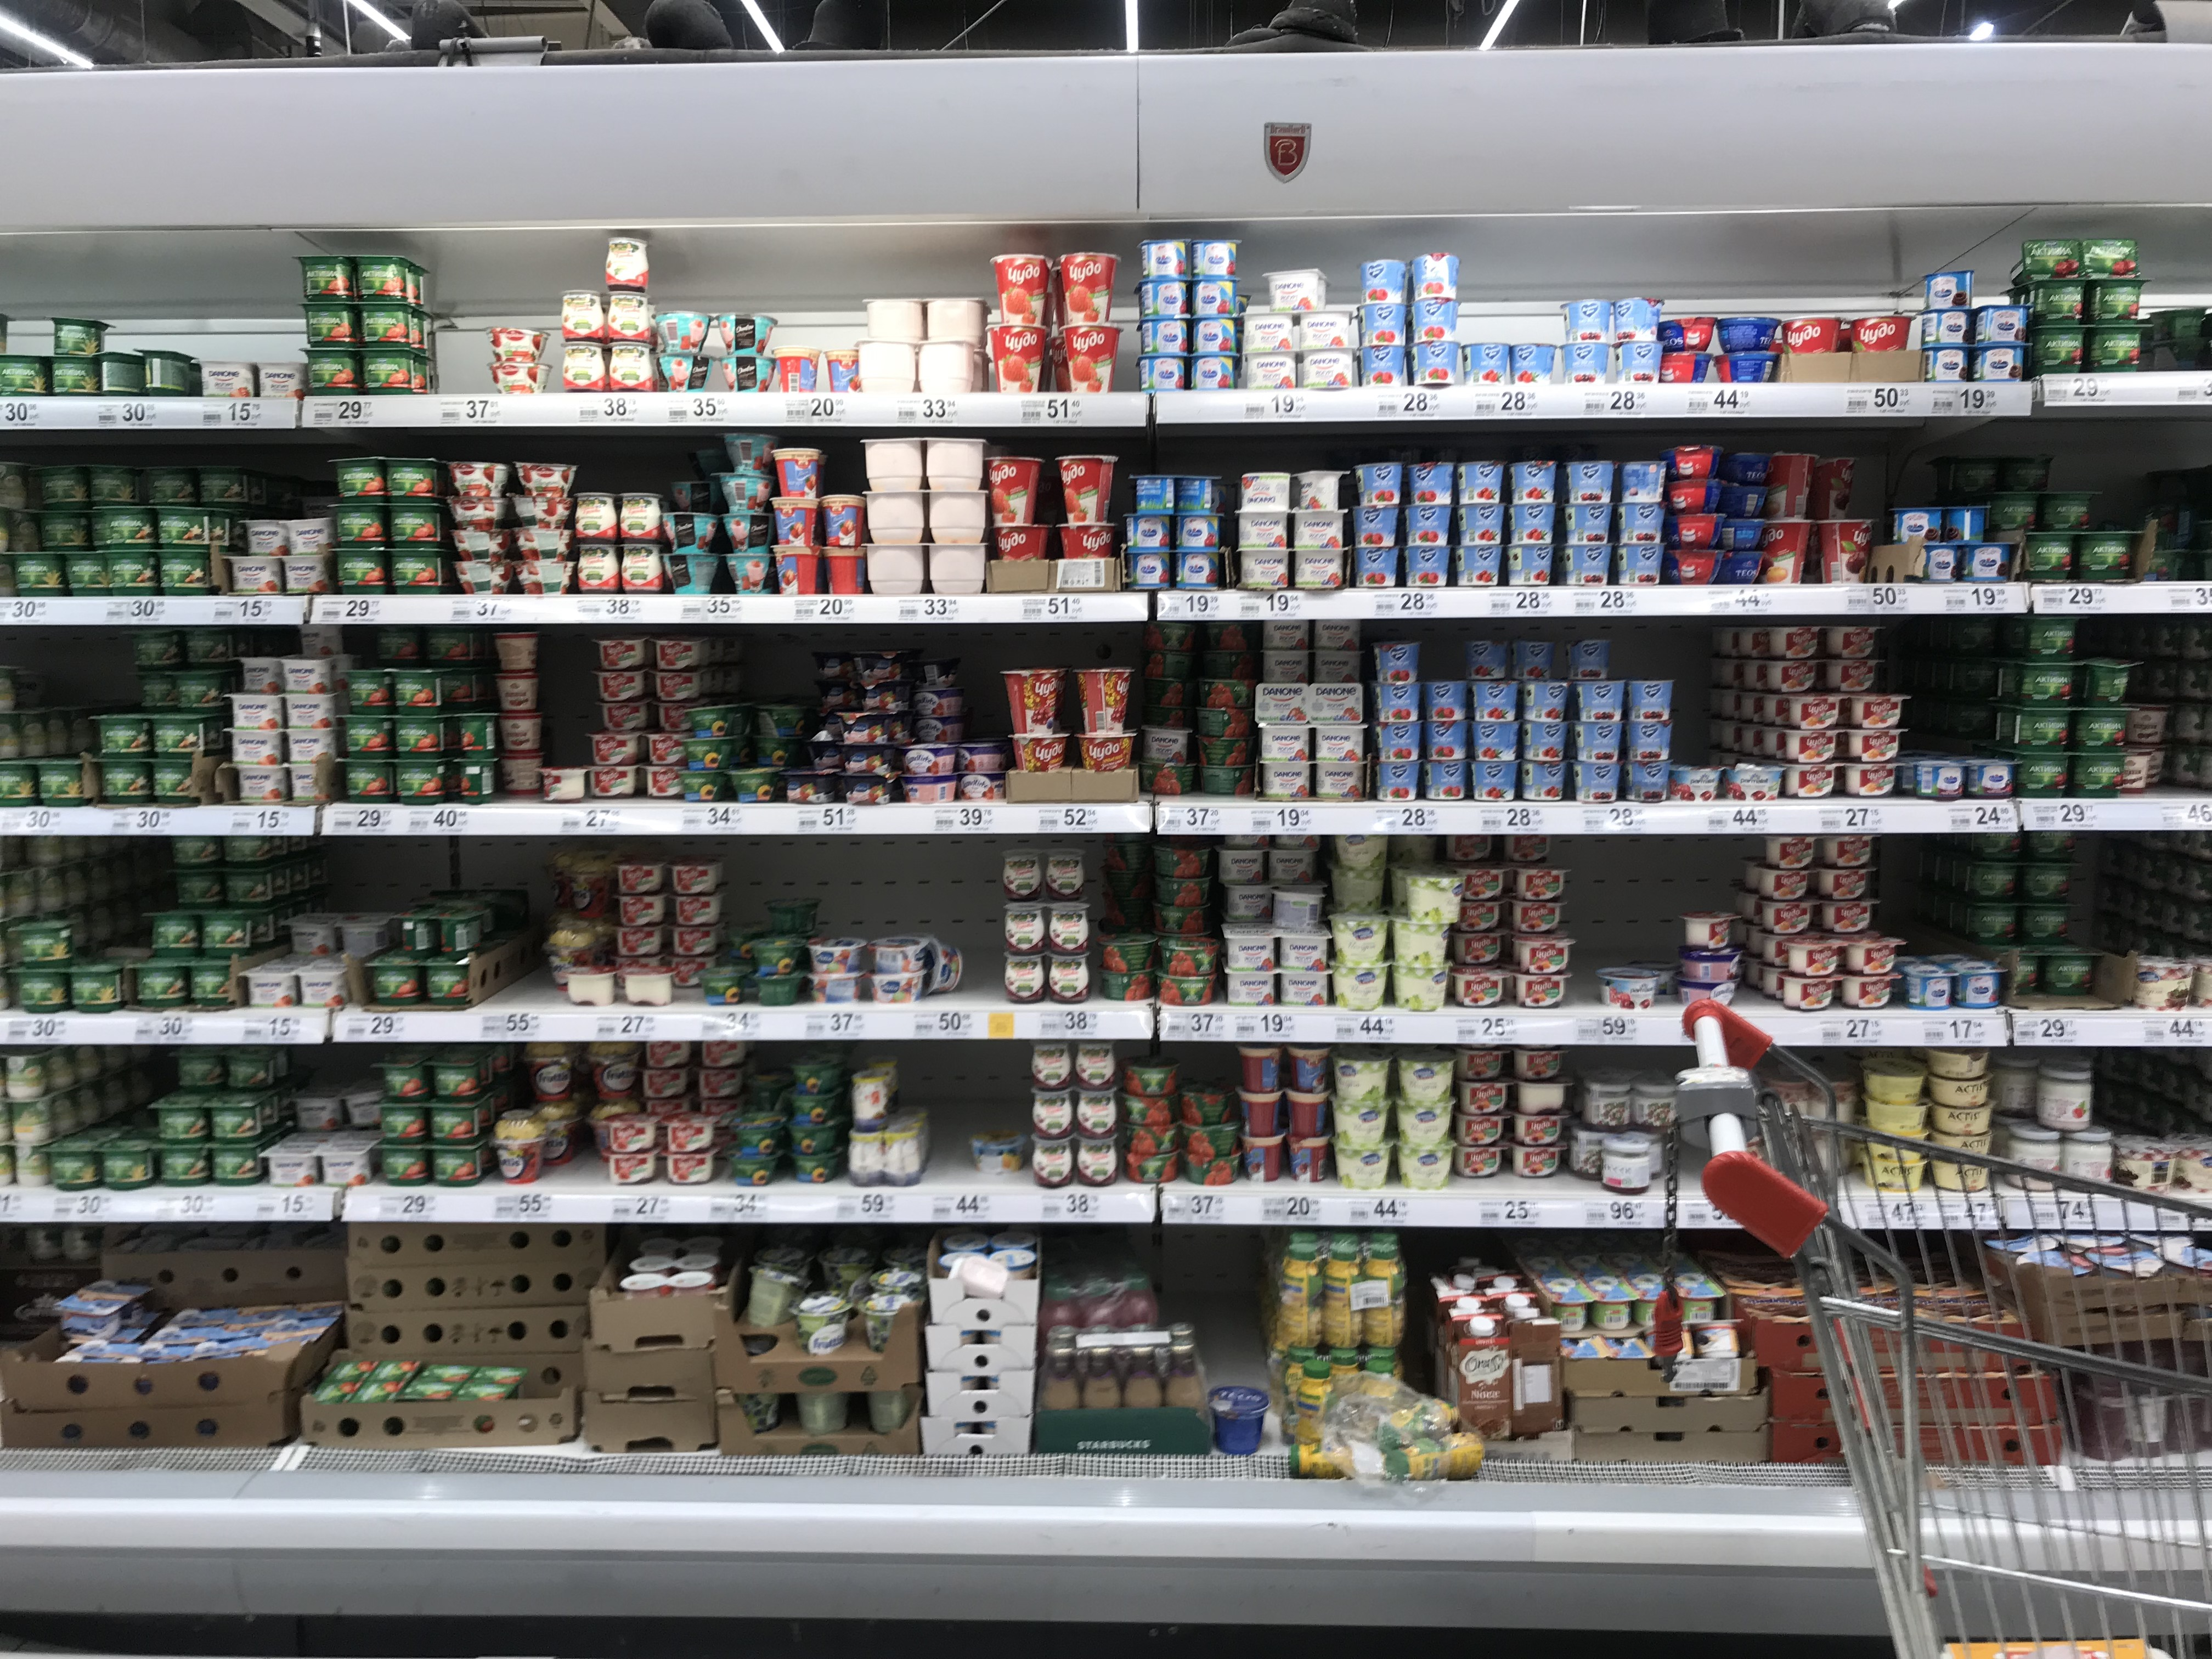yogbox: (1209, 1371, 1273, 1455), (1001, 666, 1068, 734), (984, 328, 1049, 397), (1061, 324, 1120, 394), (993, 254, 1049, 328), (1076, 666, 1130, 737), (1817, 519, 1874, 586), (2130, 953, 2193, 1011), (2114, 1134, 2172, 1195), (986, 458, 1038, 525), (792, 1297, 852, 1354), (742, 1267, 799, 1326), (1059, 458, 1115, 519), (860, 439, 923, 491), (914, 343, 977, 396), (1763, 516, 1810, 586), (1061, 258, 1109, 324), (1395, 917, 1454, 971), (2038, 1066, 2092, 1126), (927, 439, 988, 491), (925, 493, 986, 545), (862, 493, 925, 544), (923, 296, 988, 345), (1331, 913, 1388, 967), (1393, 1141, 1454, 1192), (51, 1297, 120, 1340), (1763, 453, 1810, 518), (860, 343, 918, 396), (1327, 1094, 1388, 1143), (1007, 732, 1071, 777), (1581, 1270, 1635, 1324), (1594, 1140, 1646, 1195), (1339, 1051, 1395, 1103), (2064, 1127, 2114, 1185), (495, 1114, 538, 1180), (1395, 1054, 1456, 1101), (862, 296, 925, 342), (589, 1042, 636, 1101), (1811, 457, 1855, 519), (1332, 1138, 1386, 1188), (948, 1262, 1015, 1302), (1397, 1101, 1453, 1150), (970, 1129, 1028, 1176), (867, 547, 925, 594), (927, 545, 984, 592), (1848, 317, 1912, 359), (1393, 971, 1453, 1016), (1595, 964, 1655, 1009), (1404, 873, 1458, 922), (995, 523, 1052, 568), (770, 347, 820, 397), (860, 1293, 909, 1345), (1456, 633, 1508, 681), (1336, 833, 1388, 882), (2006, 1131, 2055, 1183), (1784, 310, 1838, 357), (1895, 504, 1949, 551), (1331, 965, 1388, 1009), (1719, 312, 1778, 354), (1451, 542, 1503, 589), (1059, 523, 1113, 568), (1543, 1274, 1588, 1328), (514, 460, 575, 500), (1864, 1091, 1925, 1131), (1045, 899, 1089, 955), (573, 491, 622, 540), (1561, 295, 1611, 342), (1862, 1061, 1921, 1101), (477, 326, 545, 361), (575, 540, 620, 592), (446, 497, 510, 533), (1660, 547, 1724, 584), (1367, 641, 1421, 685), (900, 742, 961, 781), (1972, 303, 2029, 343), (772, 498, 820, 545), (770, 547, 817, 596), (557, 289, 603, 340), (1049, 955, 1092, 1007), (1561, 342, 1613, 385), (1287, 1133, 1329, 1187), (1656, 444, 1721, 479), (1785, 941, 1850, 976), (1658, 312, 1719, 349), (603, 239, 648, 288), (1508, 340, 1557, 385), (1507, 544, 1555, 589), (1031, 1140, 1075, 1190), (547, 931, 590, 981), (618, 490, 662, 540), (1458, 457, 1501, 507), (1374, 762, 1425, 805), (1075, 1042, 1116, 1094), (1719, 765, 1782, 800), (449, 458, 509, 495), (1510, 1108, 1569, 1145), (535, 765, 589, 805), (853, 1075, 892, 1131), (624, 965, 679, 1004), (1911, 763, 1966, 802), (1508, 1143, 1564, 1182), (1841, 939, 1905, 972), (998, 852, 1045, 897), (1611, 296, 1658, 342), (1240, 1091, 1287, 1136), (775, 450, 819, 498), (1191, 237, 1240, 281), (1456, 505, 1505, 549), (1923, 267, 1973, 308), (1514, 462, 1564, 504), (1695, 1319, 1745, 1361), (881, 1134, 921, 1187), (1569, 725, 1622, 765), (1514, 969, 1566, 1009), (1932, 1075, 1994, 1108), (514, 561, 573, 596), (1566, 636, 1611, 681), (822, 549, 866, 596), (1580, 1084, 1627, 1127), (1629, 1082, 1676, 1126), (531, 1047, 568, 1103), (782, 769, 838, 805), (1404, 509, 1453, 551), (1965, 760, 2013, 802), (1952, 964, 2001, 1006), (610, 1112, 660, 1152), (1076, 1140, 1116, 1190), (1005, 950, 1045, 1000), (1080, 739, 1130, 779), (820, 497, 860, 547), (1683, 948, 1747, 979), (566, 969, 618, 1007), (808, 938, 866, 972), (453, 559, 510, 594), (1127, 516, 1181, 552), (1684, 910, 1738, 946), (3, 1054, 47, 1100), (1615, 338, 1660, 382), (1942, 498, 1987, 542), (1928, 345, 1975, 387), (1679, 978, 1742, 1009), (1905, 971, 1952, 1012), (1667, 481, 1726, 514), (1402, 547, 1451, 587), (1521, 683, 1569, 723), (1242, 1042, 1282, 1091), (1287, 1089, 1327, 1138), (650, 671, 705, 706), (1757, 899, 1813, 934), (590, 767, 641, 805), (1350, 509, 1400, 547), (1569, 765, 1620, 803), (834, 709, 895, 741), (1137, 240, 1190, 277), (1925, 312, 1977, 349), (1932, 1047, 1989, 1080), (1411, 462, 1454, 505), (667, 1108, 712, 1150), (1049, 850, 1090, 896), (1463, 343, 1508, 385), (1916, 542, 1961, 584), (1355, 464, 1400, 505), (1566, 544, 1611, 586), (1512, 638, 1554, 683), (1474, 762, 1519, 803), (608, 1147, 655, 1187), (1965, 542, 2012, 582), (1566, 460, 1613, 500), (1508, 504, 1555, 544), (1620, 542, 1660, 589), (838, 739, 892, 774), (838, 772, 892, 807), (1721, 349, 1775, 383), (1031, 1042, 1069, 1091), (617, 861, 665, 899), (867, 939, 930, 969), (514, 497, 573, 528), (514, 532, 573, 563), (927, 941, 963, 992), (1785, 765, 1836, 802), (1818, 903, 1874, 936), (852, 678, 904, 713), (502, 755, 543, 798), (1360, 261, 1404, 303), (1413, 343, 1454, 387), (1844, 765, 1897, 800), (1176, 516, 1221, 556), (1411, 256, 1456, 296), (1360, 303, 1406, 343), (1364, 342, 1404, 387), (1616, 502, 1662, 542), (1350, 547, 1395, 587), (1627, 680, 1672, 720), (1472, 681, 1517, 721), (1242, 1136, 1282, 1182), (1035, 1091, 1073, 1138), (810, 971, 867, 1002), (869, 969, 927, 1000), (909, 688, 967, 720), (493, 673, 540, 711), (1764, 863, 1811, 901), (1853, 697, 1907, 730), (1784, 978, 1838, 1011), (1458, 1114, 1512, 1147), (1005, 901, 1042, 950), (653, 638, 702, 674), (1519, 1079, 1569, 1114), (597, 701, 653, 732), (486, 362, 549, 390), (1174, 552, 1216, 594), (1571, 1127, 1602, 1183), (1378, 683, 1421, 723), (1522, 763, 1566, 803), (1137, 356, 1183, 394), (1287, 1046, 1325, 1091), (1137, 282, 1190, 315), (1827, 627, 1879, 660), (1456, 1080, 1508, 1114), (909, 716, 967, 746), (624, 547, 658, 596), (1129, 476, 1177, 511), (1662, 518, 1723, 545), (1822, 833, 1876, 864), (493, 633, 535, 673), (500, 713, 542, 753), (1413, 305, 1454, 345), (1580, 680, 1622, 720), (1137, 321, 1188, 354), (1670, 765, 1721, 798), (1787, 730, 1838, 763), (1177, 474, 1221, 512), (1378, 725, 1421, 763), (824, 347, 860, 392), (1620, 464, 1665, 500), (899, 774, 954, 803), (1933, 1101, 1989, 1131), (1190, 281, 1242, 312), (1717, 552, 1764, 587), (1768, 659, 1820, 690), (1514, 868, 1566, 899), (1517, 939, 1569, 971), (1188, 321, 1237, 354), (1190, 357, 1238, 390), (1629, 763, 1669, 803), (1522, 723, 1564, 762), (1426, 763, 1468, 802), (1824, 662, 1878, 692), (14, 1143, 51, 1187), (453, 532, 514, 558), (1127, 554, 1170, 591), (1629, 725, 1672, 762), (2134, 699, 2168, 744), (672, 861, 719, 894), (597, 638, 644, 671), (1851, 730, 1898, 763), (852, 1133, 881, 1185), (1761, 835, 1813, 864), (589, 734, 637, 765), (1719, 519, 1768, 551), (1458, 932, 1501, 967), (1724, 451, 1770, 484), (1460, 1051, 1505, 1084), (852, 652, 902, 681), (1771, 626, 1822, 655), (1820, 871, 1871, 901), (956, 741, 1003, 772), (1791, 697, 1838, 728), (1078, 1096, 1116, 1134), (1723, 481, 1764, 516), (1568, 507, 1609, 542), (1844, 978, 1897, 1006), (672, 924, 721, 953), (1663, 354, 1712, 383), (1514, 903, 1562, 932), (12, 1098, 45, 1141), (1980, 349, 2024, 382), (1456, 899, 1501, 931), (1456, 972, 1501, 1004), (1430, 723, 1467, 762), (1477, 723, 1517, 758), (1461, 868, 1501, 903), (597, 673, 644, 702), (618, 925, 662, 957), (1458, 1145, 1501, 1176), (617, 897, 665, 925), (674, 894, 723, 922), (958, 772, 1007, 800), (1430, 685, 1467, 721), (643, 767, 683, 800), (671, 1154, 712, 1185), (1517, 1051, 1564, 1079), (914, 660, 960, 688), (648, 735, 688, 765), (655, 704, 691, 730), (2125, 756, 2149, 791)
yogbox.activ.ky.kivi: (148, 714, 211, 765), (141, 911, 204, 962), (94, 709, 155, 760), (91, 756, 152, 807), (146, 756, 207, 807), (200, 906, 261, 957), (134, 964, 195, 1012), (190, 962, 251, 1011), (181, 671, 235, 711), (155, 552, 209, 592), (105, 552, 158, 592), (105, 511, 158, 551), (129, 629, 183, 669), (157, 1101, 211, 1141), (155, 1147, 209, 1187), (207, 1147, 261, 1187), (226, 1047, 280, 1087), (160, 507, 214, 545), (211, 1101, 265, 1140)
yogbox.activ.ky.klubnik: (343, 669, 395, 716), (394, 758, 446, 805), (394, 671, 448, 716), (394, 716, 448, 762), (334, 507, 388, 552), (387, 453, 441, 498), (366, 960, 420, 1006), (376, 1060, 430, 1105), (425, 1056, 479, 1101), (374, 1105, 428, 1150), (435, 1145, 489, 1190), (341, 713, 394, 758), (343, 760, 395, 805), (392, 547, 444, 592), (334, 547, 387, 592), (388, 504, 441, 549), (334, 455, 387, 500), (421, 962, 474, 1007), (430, 1096, 482, 1141), (378, 1143, 430, 1188), (359, 345, 411, 390), (359, 303, 411, 349), (357, 260, 409, 305), (301, 256, 354, 301), (300, 301, 352, 347), (305, 350, 357, 396)
yogbox.activ.ky.otrub: (66, 965, 120, 1012), (99, 1145, 153, 1192), (14, 967, 66, 1014), (52, 1145, 105, 1192), (33, 760, 85, 807), (61, 549, 113, 596), (7, 549, 59, 596), (92, 462, 145, 509), (38, 500, 91, 547), (54, 354, 106, 401), (51, 310, 103, 357), (0, 354, 52, 401), (16, 918, 70, 964)
yogbox.activ.ky.vish: (2087, 324, 2148, 375), (2090, 277, 2151, 328), (2027, 277, 2088, 328), (2081, 230, 2142, 281), (2022, 232, 2083, 282), (2027, 326, 2088, 375), (2013, 706, 2074, 753), (2022, 617, 2083, 664), (2076, 756, 2137, 803), (2073, 706, 2134, 753), (2015, 659, 2074, 706), (2078, 532, 2137, 579), (2013, 749, 2073, 795), (2043, 955, 2099, 997), (1968, 863, 2026, 903), (2024, 866, 2080, 906), (2031, 824, 2087, 864), (1963, 906, 2019, 946), (2024, 906, 2080, 946)
